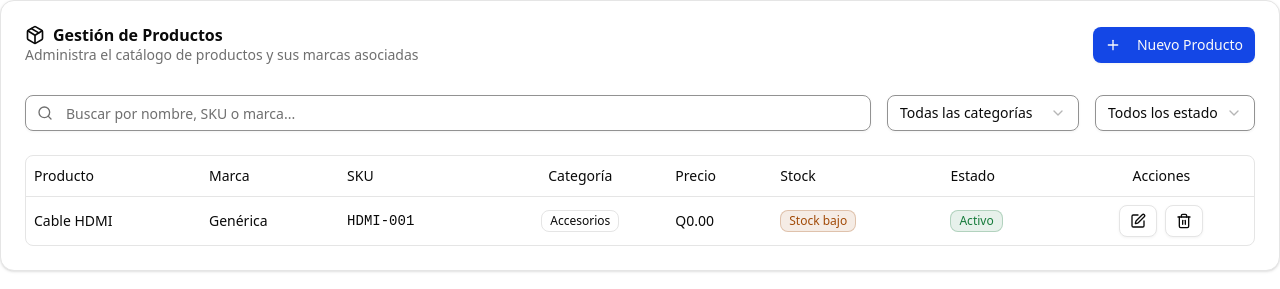
Test: ProductList › offers every category from the catalog, not only those on the current page
The image size is (1280, 289).
Check: the text "Cable HDMI" is shown, box x1=34 y1=210 x2=112 y2=230
Step 1. Click the dropdown labelled "categoría" → (983, 113), box x1=887 y1=95 x2=1079 y2=131
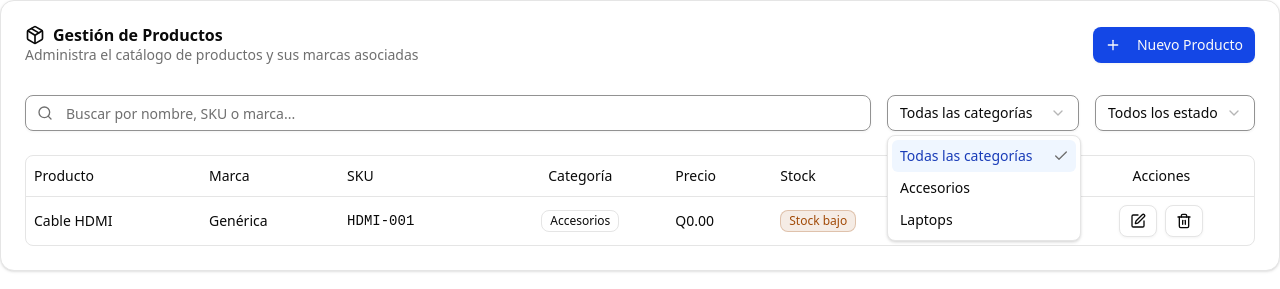
Check: the option "Laptops" is shown, box x1=900 y1=210 x2=953 y2=229
